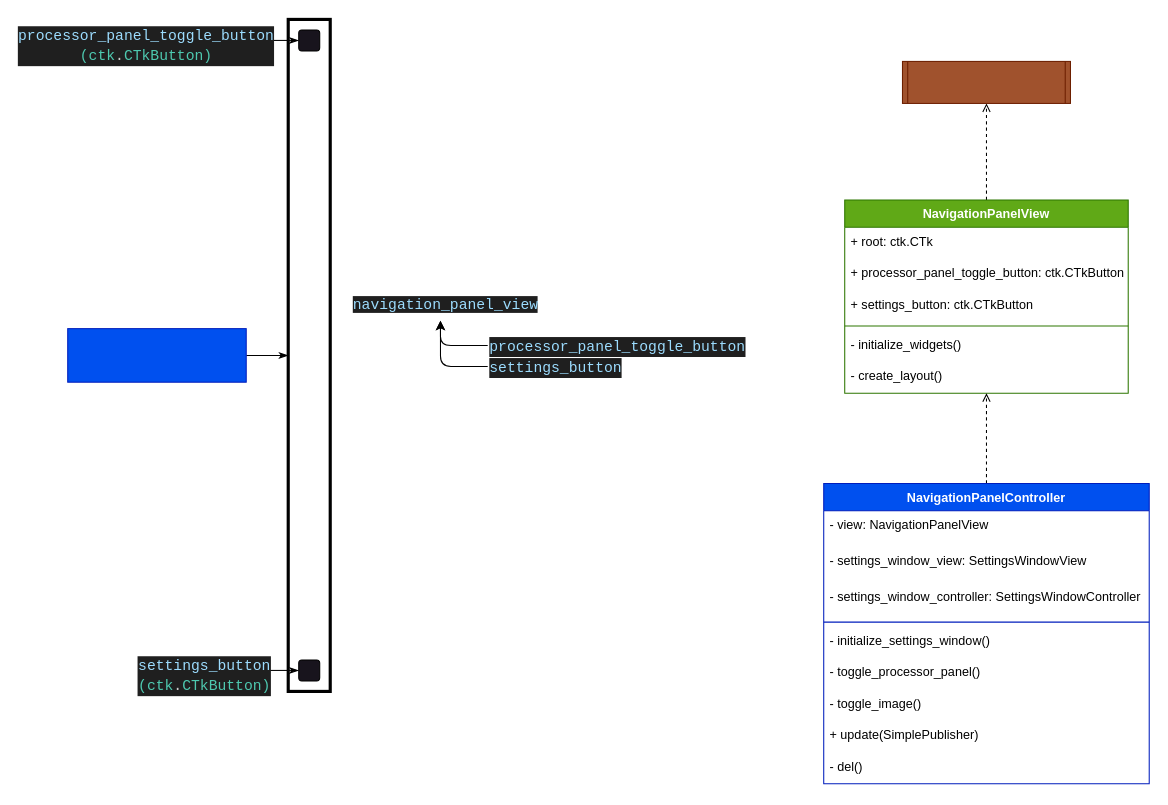
Image size: 1168x805. Some labels were removed from this diagram. The shapes that lost their labels are listed below. From the top down, each one's centre as x and y in pixels, then its label:
At [985,81]: "NavigationPanelConfig".
At [156,355]: "navigation_panel_view (NavigationPanelView)".
